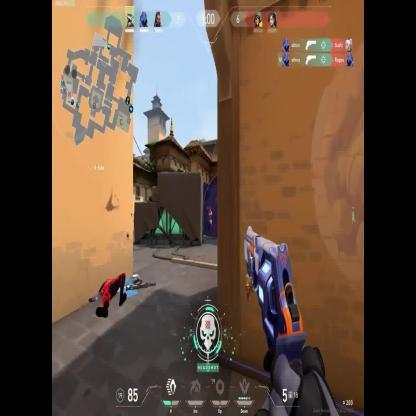enemy: (208, 205, 212, 234)
enemy_head: (210, 206, 212, 212)
